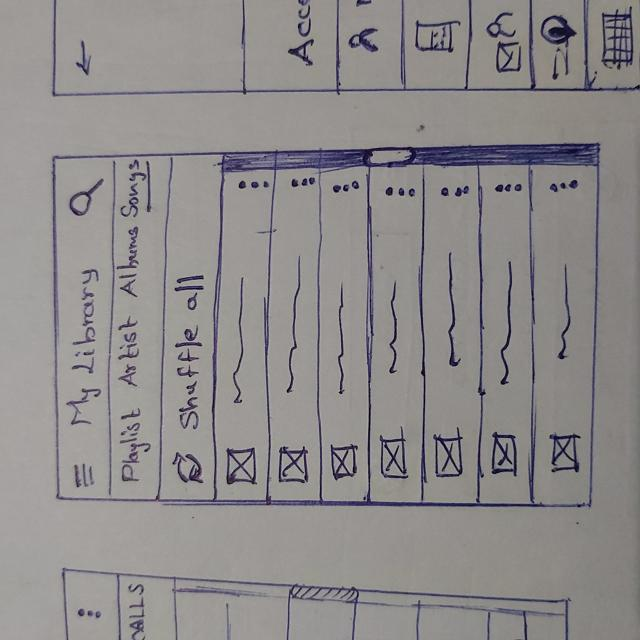ActionButton: (51, 176, 115, 227)
AppBar: (51, 154, 114, 502)
DrawerToggleButton: (70, 461, 98, 490)
Icon: (69, 177, 104, 220), (171, 452, 204, 485), (384, 184, 417, 201), (239, 176, 270, 192), (547, 179, 580, 194), (438, 183, 470, 198), (331, 182, 361, 194), (496, 181, 520, 194), (288, 178, 316, 189)
Image: (277, 448, 309, 486), (381, 437, 407, 478), (228, 447, 257, 483), (492, 434, 516, 477), (330, 445, 360, 476), (553, 435, 578, 471), (436, 439, 459, 474)
ListView: (222, 172, 590, 504)
MainLayout: (51, 148, 599, 511)
ScrollBar: (224, 149, 598, 169)
Tab: (115, 157, 159, 496)
TabItem: (113, 309, 161, 393), (111, 409, 157, 488), (114, 226, 158, 300), (115, 154, 155, 224)
TextView: (171, 275, 207, 430), (68, 267, 96, 428), (439, 250, 463, 380), (498, 258, 520, 389), (287, 252, 304, 399), (233, 272, 251, 410), (554, 260, 576, 371), (385, 278, 405, 385), (334, 282, 350, 401)
VerticalListView: (223, 172, 590, 504)
